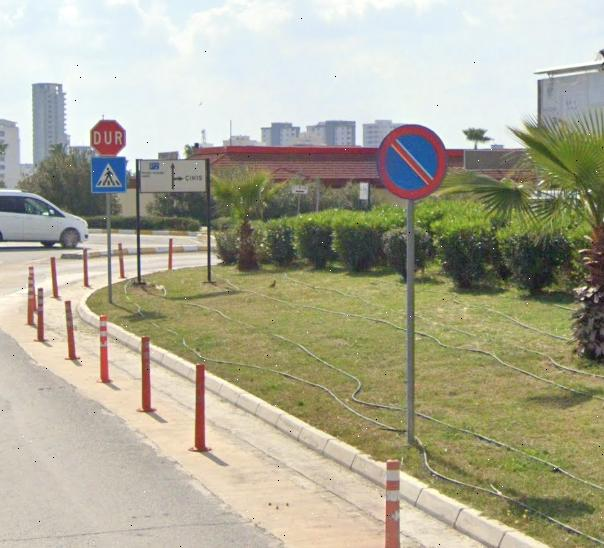stop: (378, 124, 447, 199), (90, 118, 127, 158)
